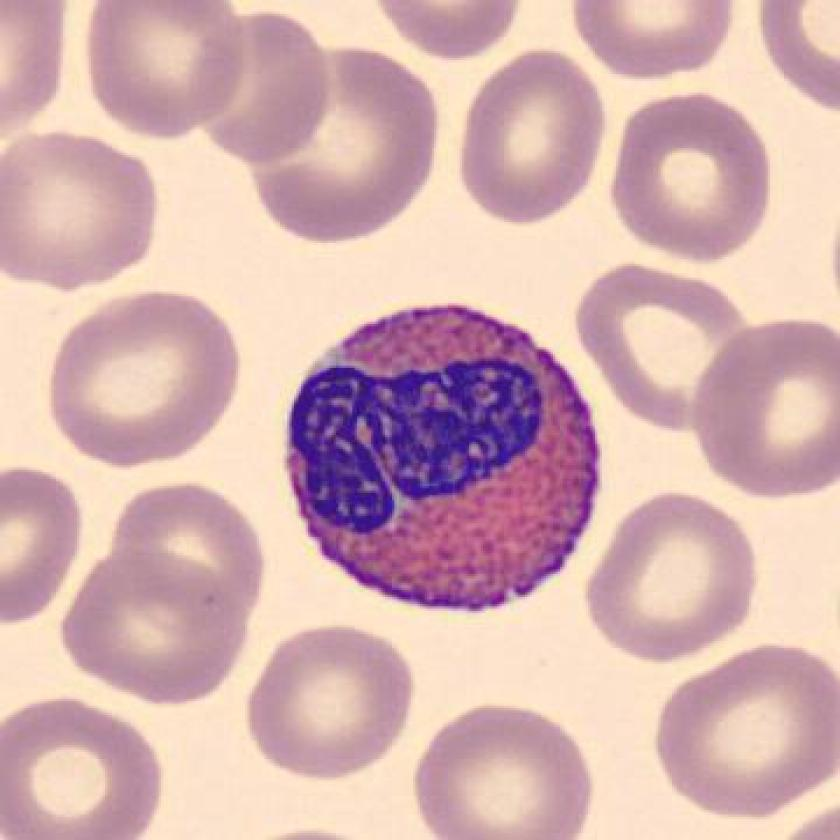eosinophil: (269, 288, 615, 626)
